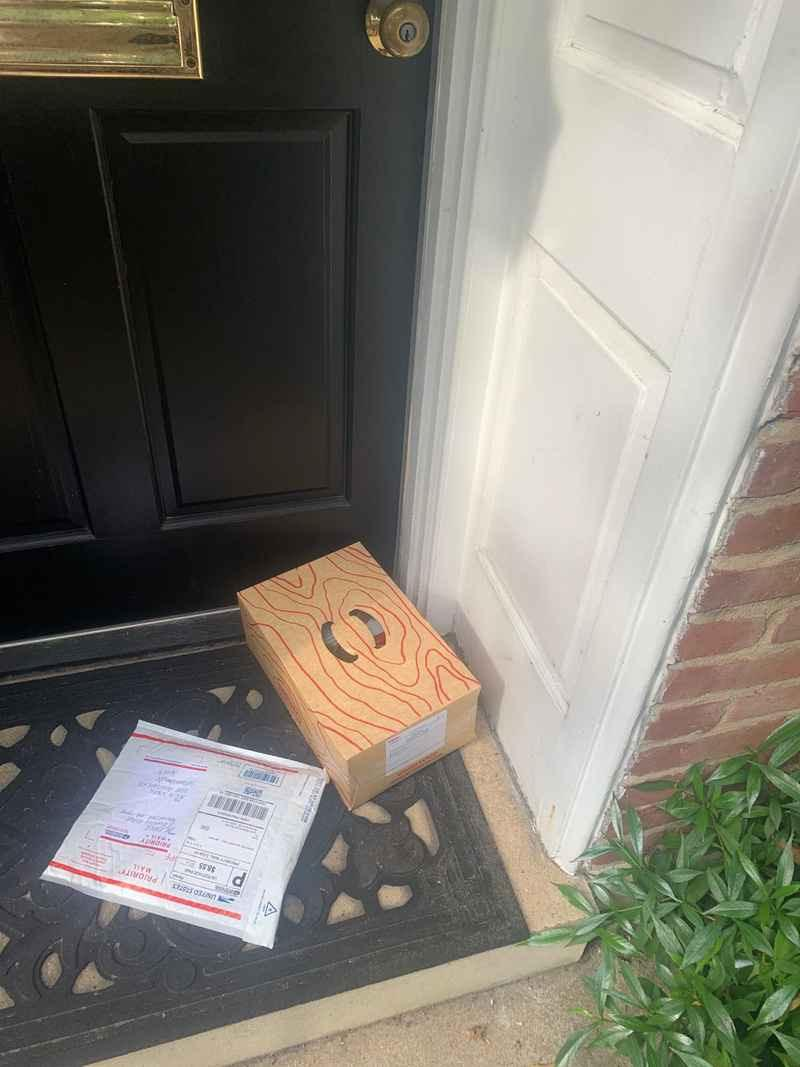package: (217, 538, 513, 816)
